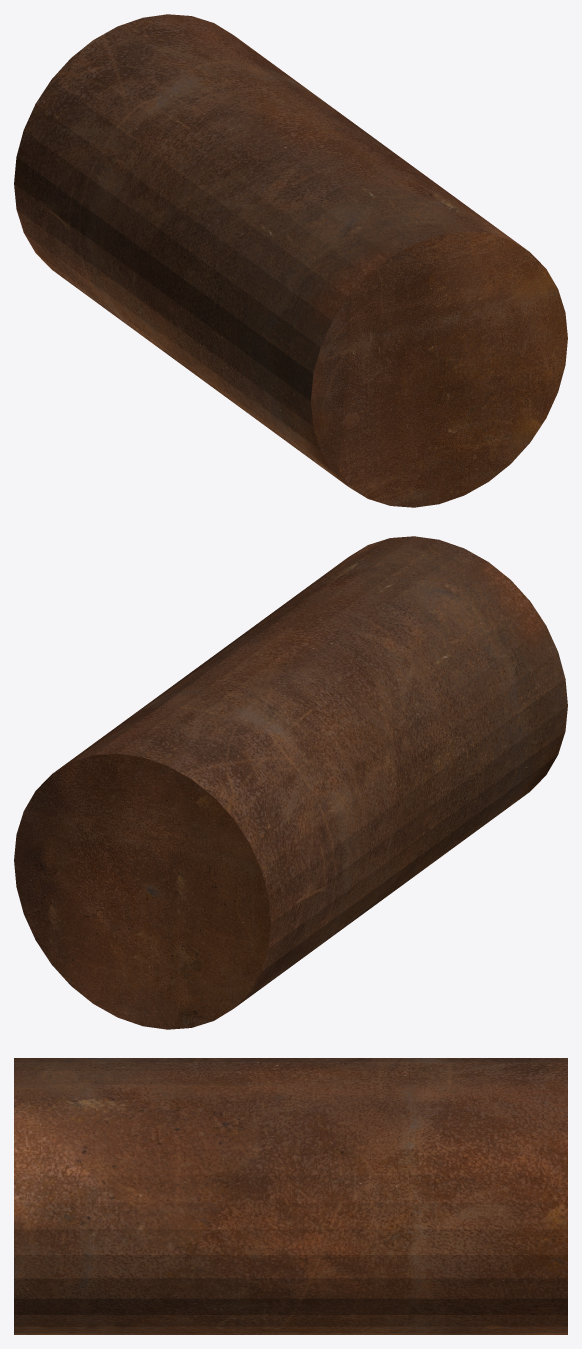
3 views of the same model, one above another, from view 1: azimuth 30°, elevation 25°; view 2: azimuth 150°, elevation 25°; view 3: azimuth 270°, elevation 25° (orthographic). The views are drawn at different scales.
Parts seen in each view (by area): view 1: 工件; view 2: 工件; view 3: 工件.
Boxes of the visible parts, x1,y1,x2,y2 form: 工件: (14,14,567,507); 工件: (14,536,567,1029); 工件: (14,1058,567,1334).
Size of the model in its own units: 0.05 by 0.05 by 0.1.
Materials: 1 (1 with a texture image).
